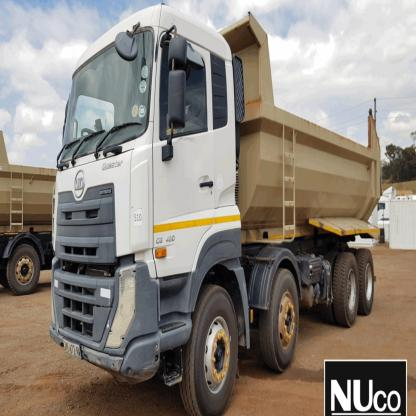dump_truck: (38, 7, 390, 412)
